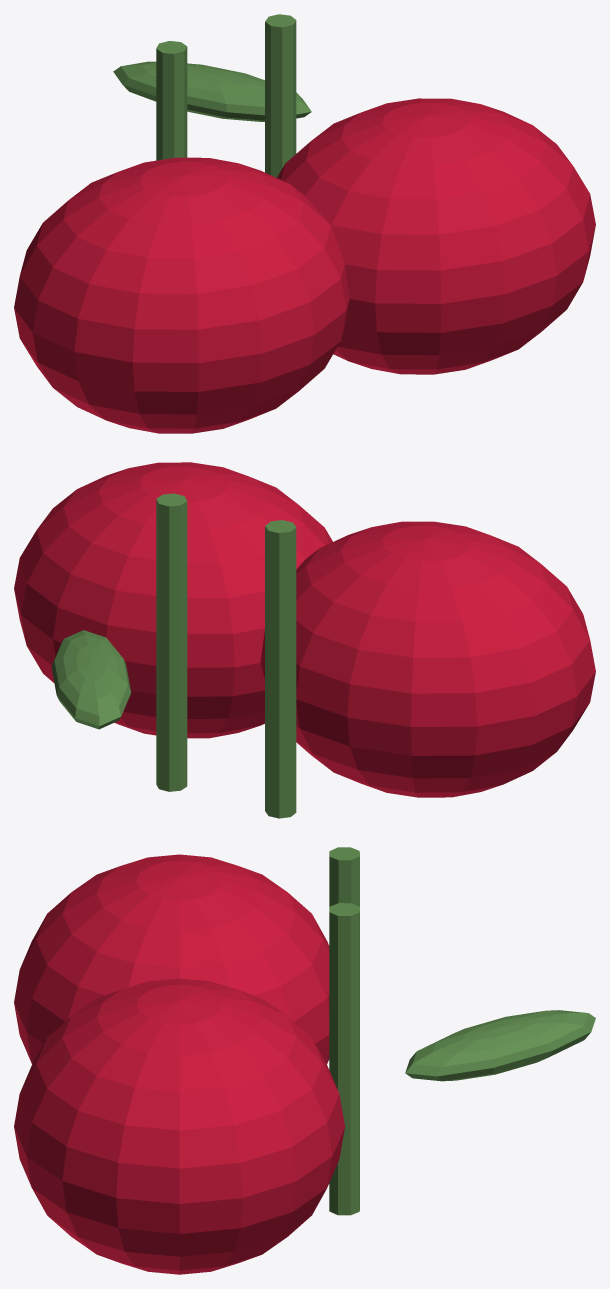
Rendered from charm-cherry.glb.
The picture shows the model from 3 angles, top to bottom: view 1: azimuth 30°, elevation 25°; view 2: azimuth 150°, elevation 25°; view 3: azimuth 270°, elevation 25°; orthographic projection. The views are drawn at different scales.
Visible parts, largest first — view 1: charm_cherry; view 2: charm_cherry; view 3: charm_cherry.
Boxes of the visible parts, box(x1,y1,x2,y2) form: charm_cherry: box(14, 14, 595, 433); charm_cherry: box(14, 462, 595, 818); charm_cherry: box(14, 847, 595, 1274).
Size of the model in its own units: 0.00719 by 0.00372 by 0.00634.
